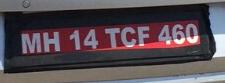0: (184, 22, 199, 43)
1: (68, 28, 81, 50)
4: (82, 27, 99, 48), (156, 23, 172, 45)
6: (170, 22, 185, 45)
C: (120, 25, 136, 46)
F: (135, 25, 150, 46)
H: (41, 30, 61, 51)
M: (20, 32, 41, 53)
T: (103, 26, 120, 47)
